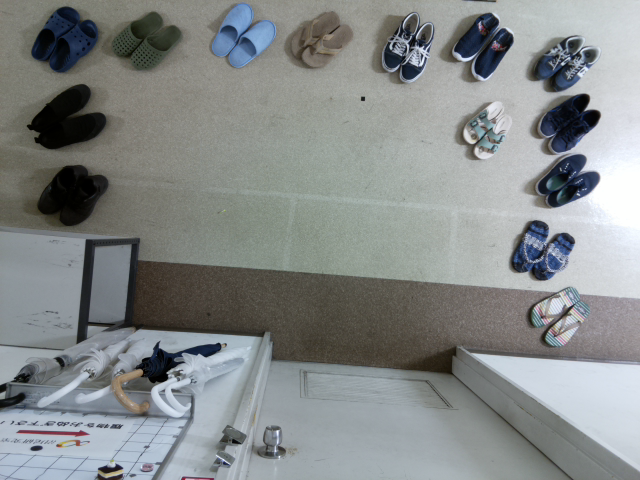Copy of Copy of Copy of Copy of Copy of Copy of Copy of Copy of Copy of Copy of: (549, 108, 602, 154), (534, 152, 588, 197), (545, 169, 601, 210)
Copy of Copy of Copy of Copy of Copy of Copy of Copy of Copy of Copy of shoes: (538, 92, 591, 138)
Copy of Copy of Copy of Copy of Copy of Copy of Copy of Copy of shoes: (546, 44, 602, 91)
Copy of Copy of Copy of Copy of Copy of Copy of Copy of sandal: (291, 10, 339, 59)
Copy of Copy of Copy of Copy of Copy of Copy of Copy of shoes: (529, 34, 585, 80)
Copy of Copy of Copy of Copy of Copy of Copy of sandal: (302, 23, 354, 68)
Copy of Copy of Copy of Copy of Copy of Copy of shoes: (470, 25, 515, 81)
Copy of Copy of Copy of Copy of Copy of sandal: (529, 286, 580, 327)
Copy of Copy of Copy of Copy of Copy of shoes: (449, 12, 499, 62)
Copy of Copy of Copy of Copy of Copy of slipper: (31, 6, 82, 61)
Copy of Copy of Copy of Copy of sandal: (542, 299, 590, 346)
Copy of Copy of Copy of Copy of shoes: (397, 20, 435, 82)
Copy of Copy of Copy of Copy of slipper: (48, 18, 99, 72)
Copy of Copy of Copy of sandal: (509, 219, 550, 273)
Copy of Copy of Copy of shoes: (381, 10, 420, 72)
Copy of Copy of Copy of slipper: (110, 11, 163, 57)
Copy of Copy of sandal: (531, 232, 575, 280)
Copy of Copy of shoes: (27, 82, 92, 133)
Copy of Copy of slipper: (129, 24, 182, 70)
Copy of sandal: (461, 100, 504, 144)
Copy of shoes: (35, 111, 106, 150), (59, 176, 109, 226)
Copy of slipper: (209, 2, 253, 57)
sandal: (472, 113, 512, 161)
shoes: (36, 166, 89, 212)
slipper: (227, 19, 275, 68)
